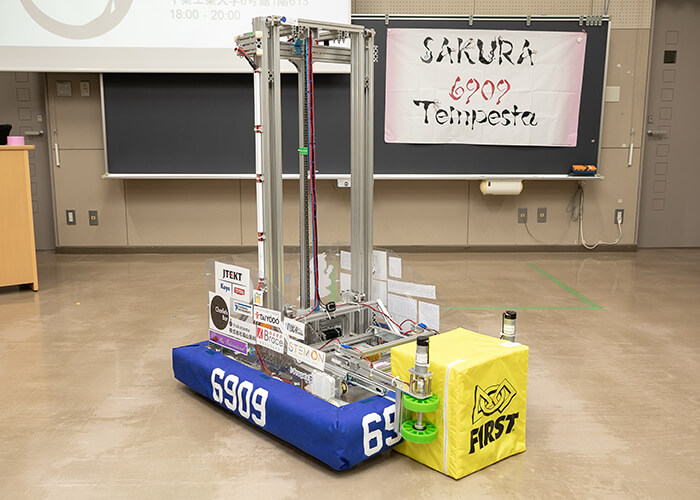cube: (390, 327, 529, 479)
